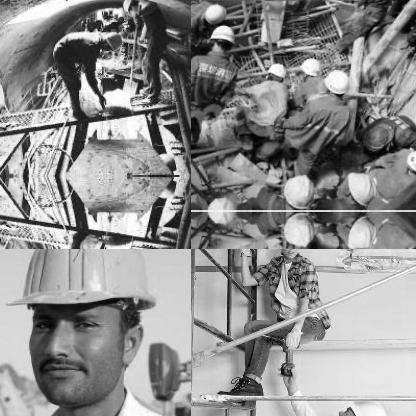Helmet: (0, 249, 172, 415), (340, 170, 378, 206), (340, 213, 379, 248), (280, 171, 316, 207), (280, 212, 316, 248), (319, 67, 349, 97), (364, 119, 396, 147), (208, 23, 236, 53), (329, 400, 383, 415), (200, 2, 225, 28), (265, 58, 287, 86), (95, 29, 122, 49), (300, 54, 320, 80), (400, 146, 415, 176), (120, 0, 142, 13)
